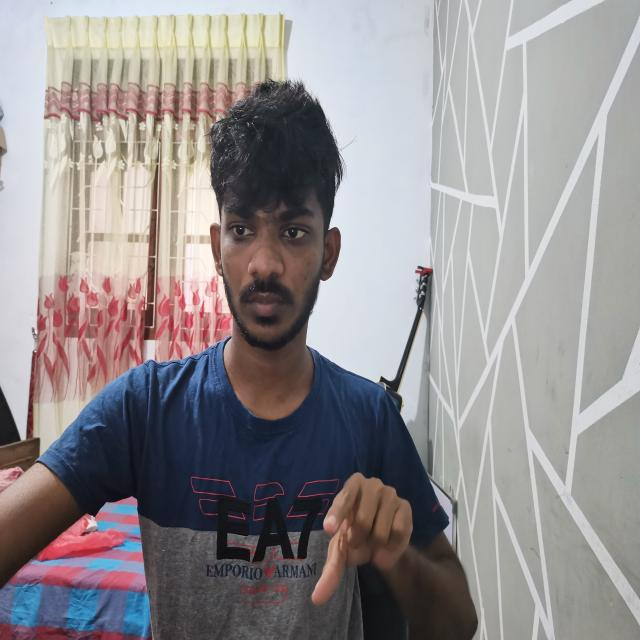No: (316, 467, 419, 612)
